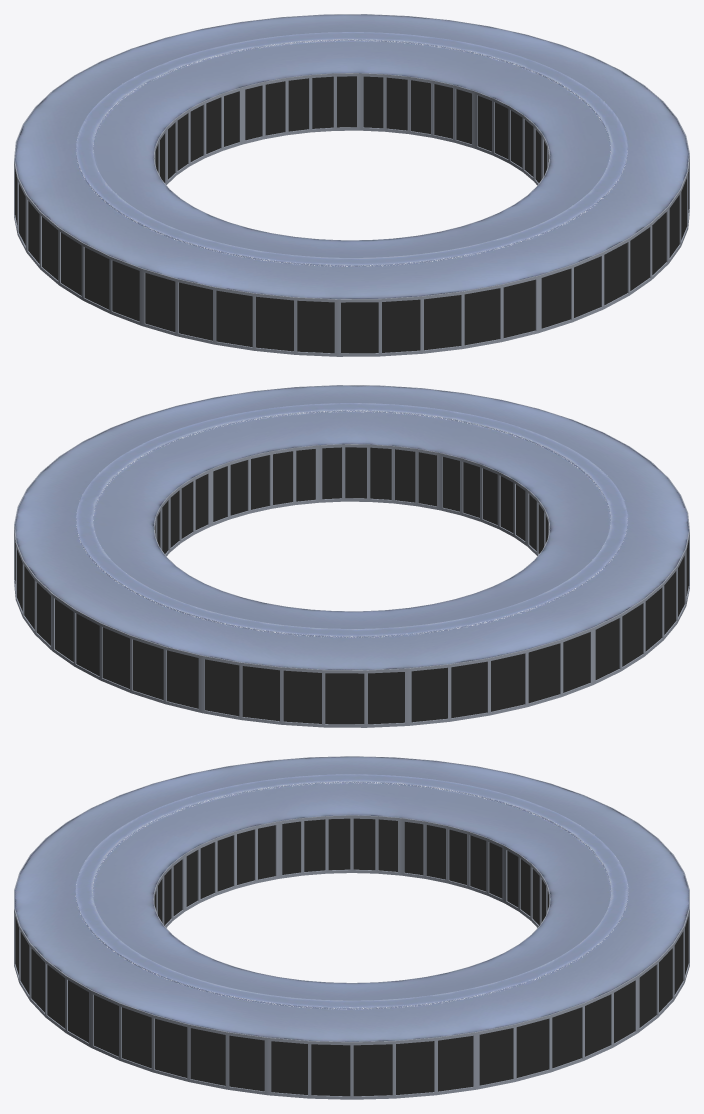
The model's file is Apple Space.glb.
The picture shows the model from 3 angles, top to bottom: view 1: azimuth 30°, elevation 25°; view 2: azimuth 150°, elevation 25°; view 3: azimuth 270°, elevation 25°; orthographic projection.
Visible parts, largest first — view 1: Body, Glass, Metal, polySurface60; view 2: Body, Glass, Metal, polySurface60; view 3: Body, Glass, Metal.
Part boxes in pixels (box(x1,y1,x2,y2)): Body: box(15, 14, 688, 299); Glass: box(15, 76, 688, 353); Metal: box(14, 14, 689, 356); polySurface60: box(77, 39, 625, 266); Body: box(15, 385, 688, 670); Glass: box(15, 447, 688, 724); Metal: box(14, 385, 689, 727); polySurface60: box(76, 410, 625, 637); Body: box(15, 756, 688, 1041); Glass: box(15, 818, 688, 1096); Metal: box(14, 756, 689, 1099).
Size of the model in its own units: 1.25 by 0.1334 by 1.24.
Materials: 6 (3 with a texture image).
